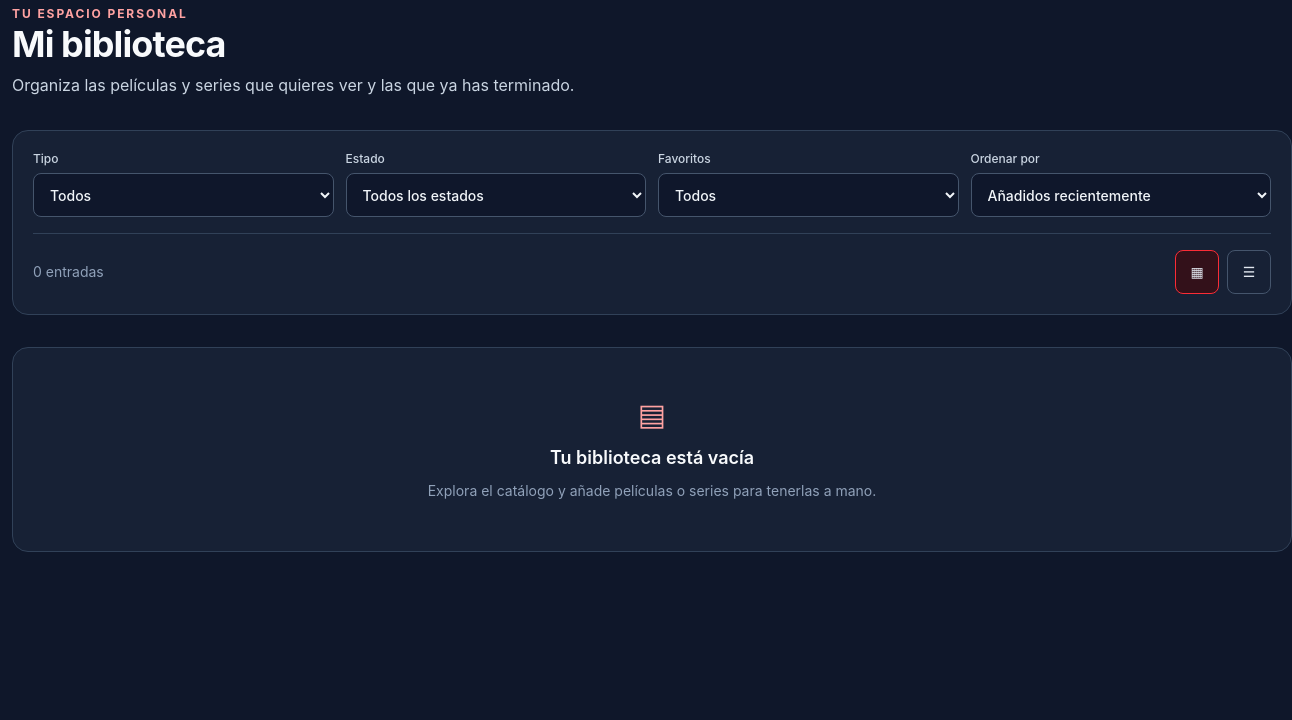
Test: LibraryPage › distingue una biblioteca vacía de filtros sin resultados
Expected: the heading "Tu biblioteca está vacía" is shown, x1=550 y1=447 x2=754 y2=468
Select "Series" in the dropdown named "Filtrar por tipo" at (183, 195), box x1=33 y1=173 x2=334 y2=217
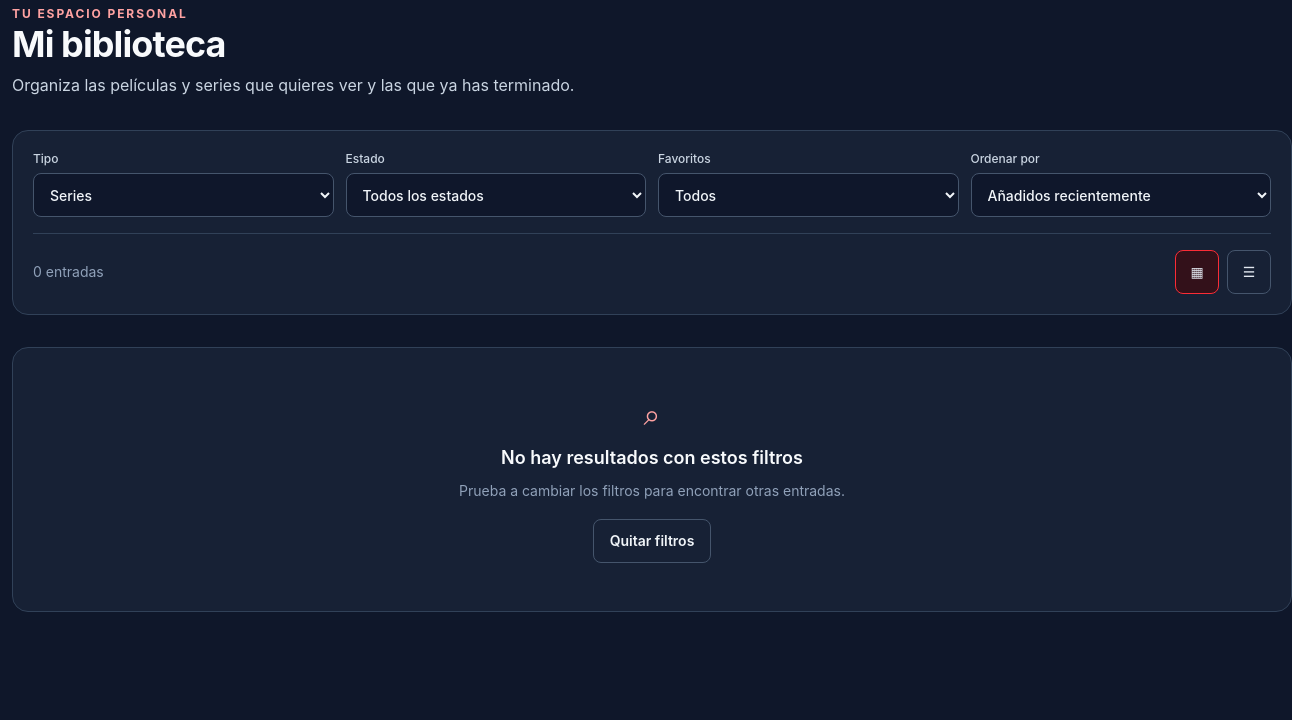
Expected: the heading "No hay resultados con estos filtros" is shown, x1=501 y1=447 x2=803 y2=468
